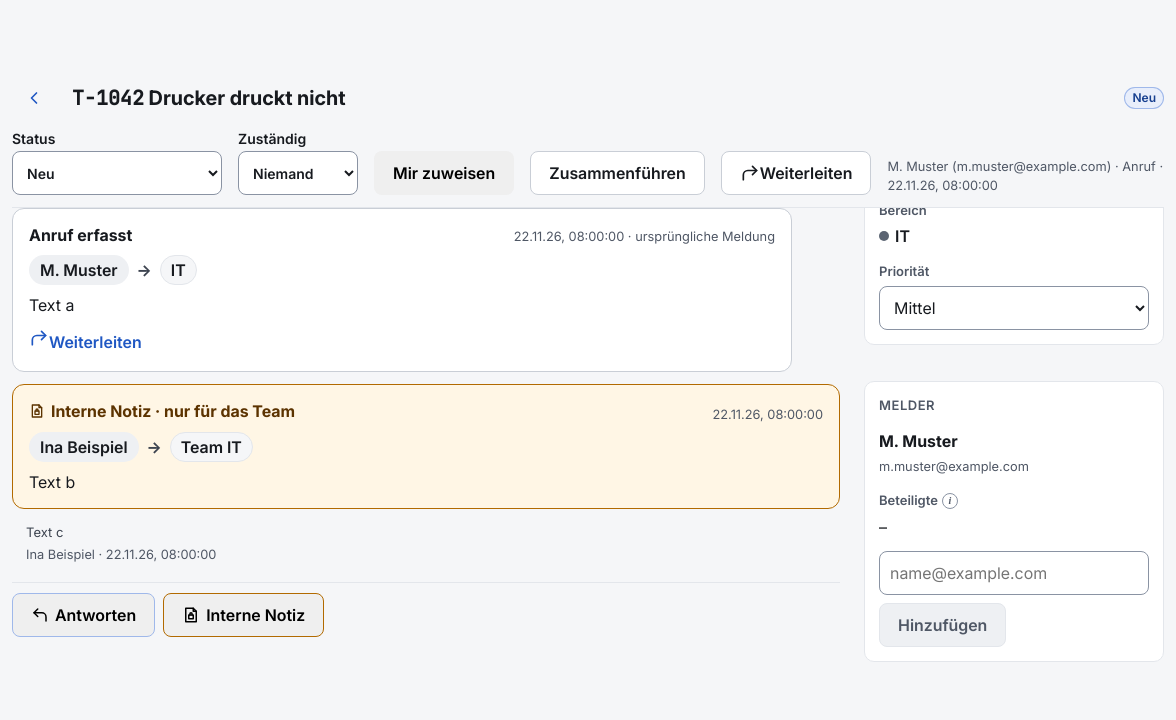
it: TicketPage › speichert Status und Zuständigkeit erst nach „Bestätigen“
The width and height of the screenshot is (1176, 720).
Expected: the text "Drucker druckt nicht" is shown, [149,86,346,110]
Step 1. Select "In Arbeit" in the dropdown labelled "Status" → (117, 173), box [12,151,222,195]
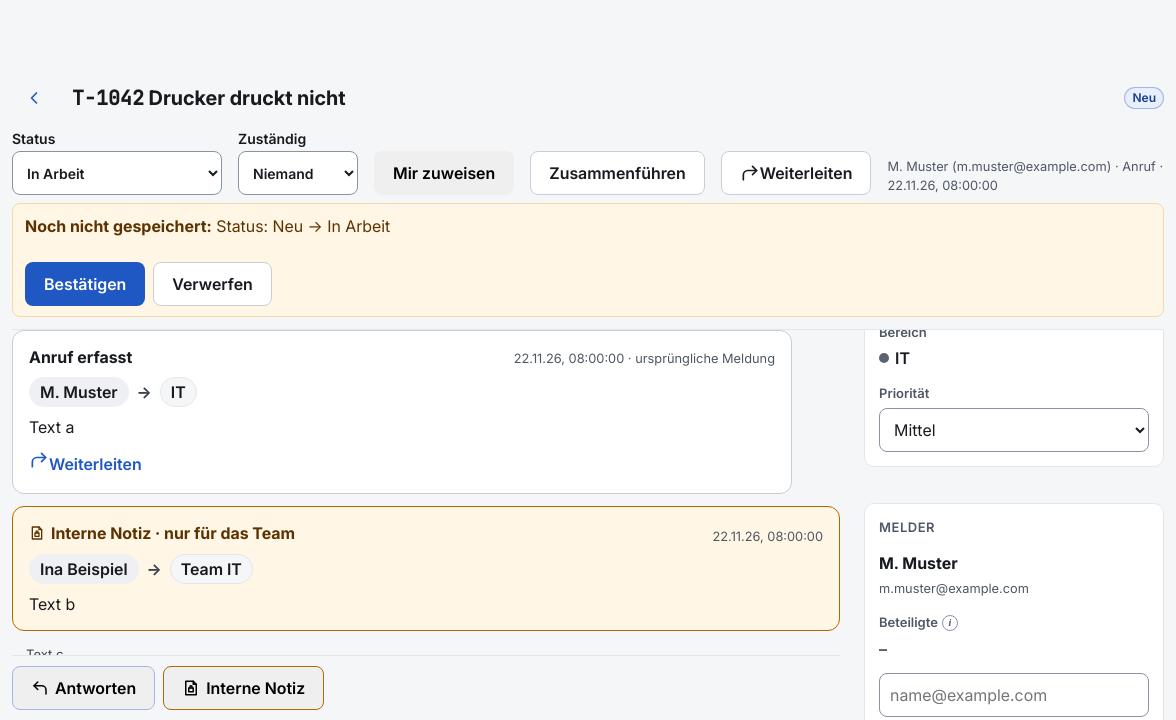
Step 2. Click the button "Mir zuweisen" → (444, 173), box [374,151,514,195]
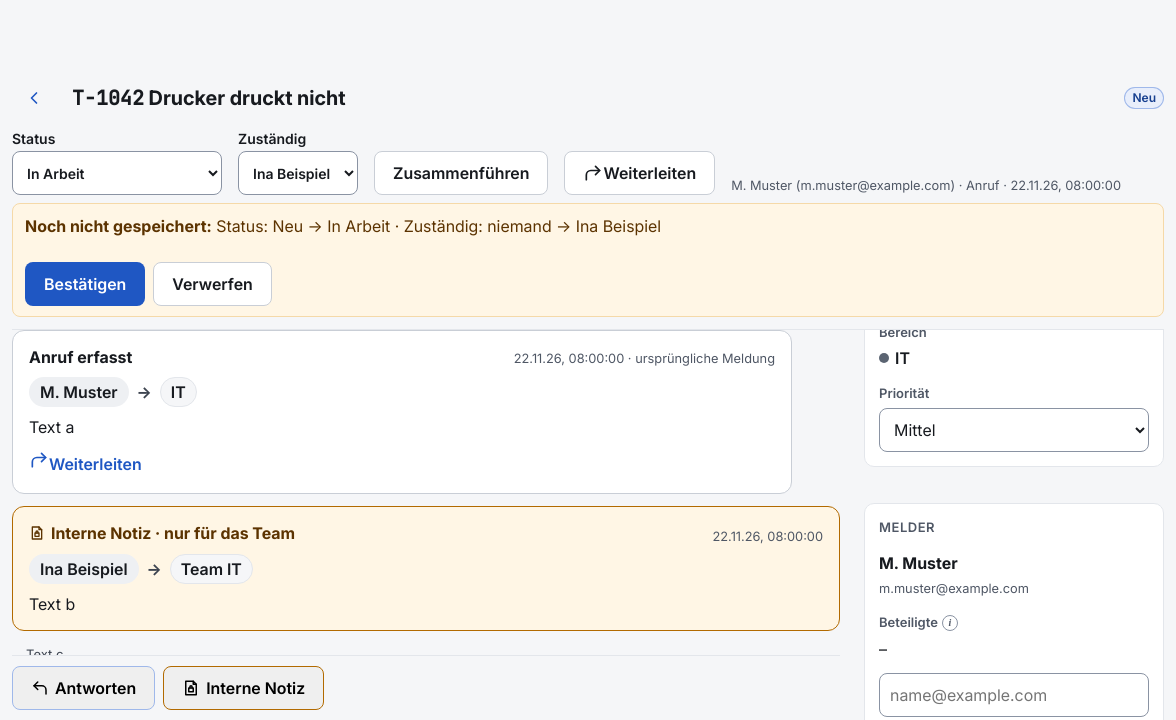
Now the text "Status: Neu → In Arbeit · Zuständig: niemand → Ina Beispiel" is shown, box [216,216,661,236]
Note: Verwerfen nimmt alles zurück
Step 3. Click the button "Verwerfen" → (212, 284), box [153,262,272,306]
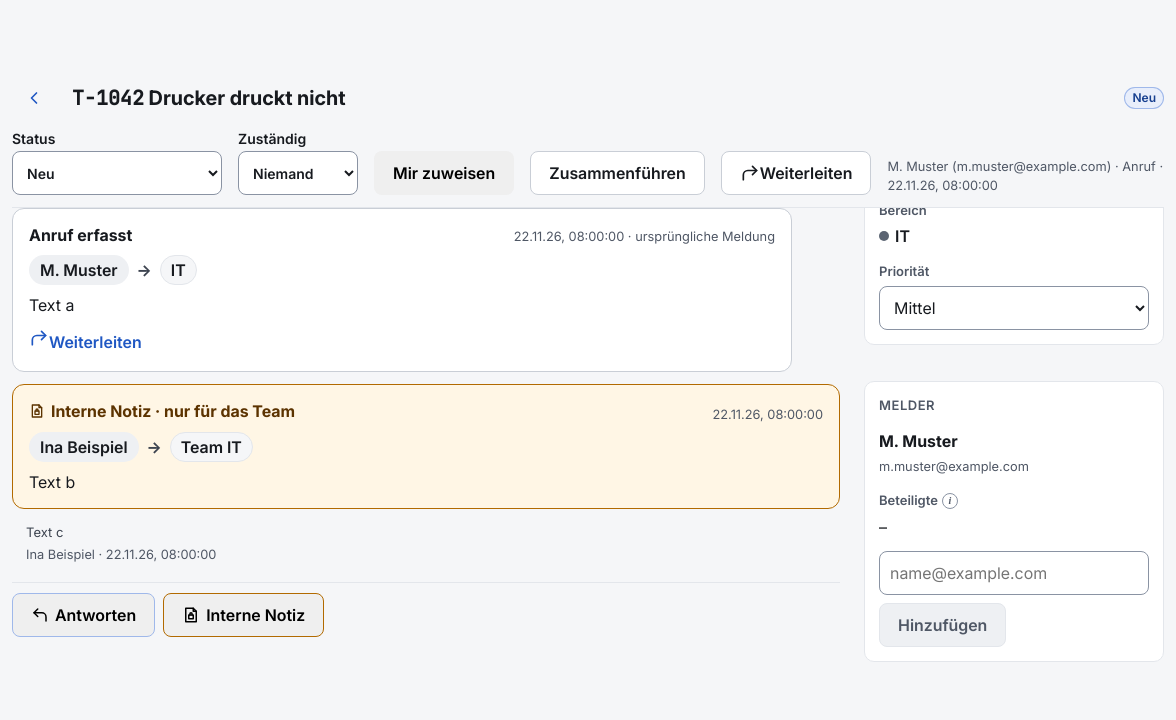
Note: Erneut ändern und bestätigen
Step 4. Select "In Arbeit" in the dropdown labelled "Status" → (117, 173), box [12,151,222,195]
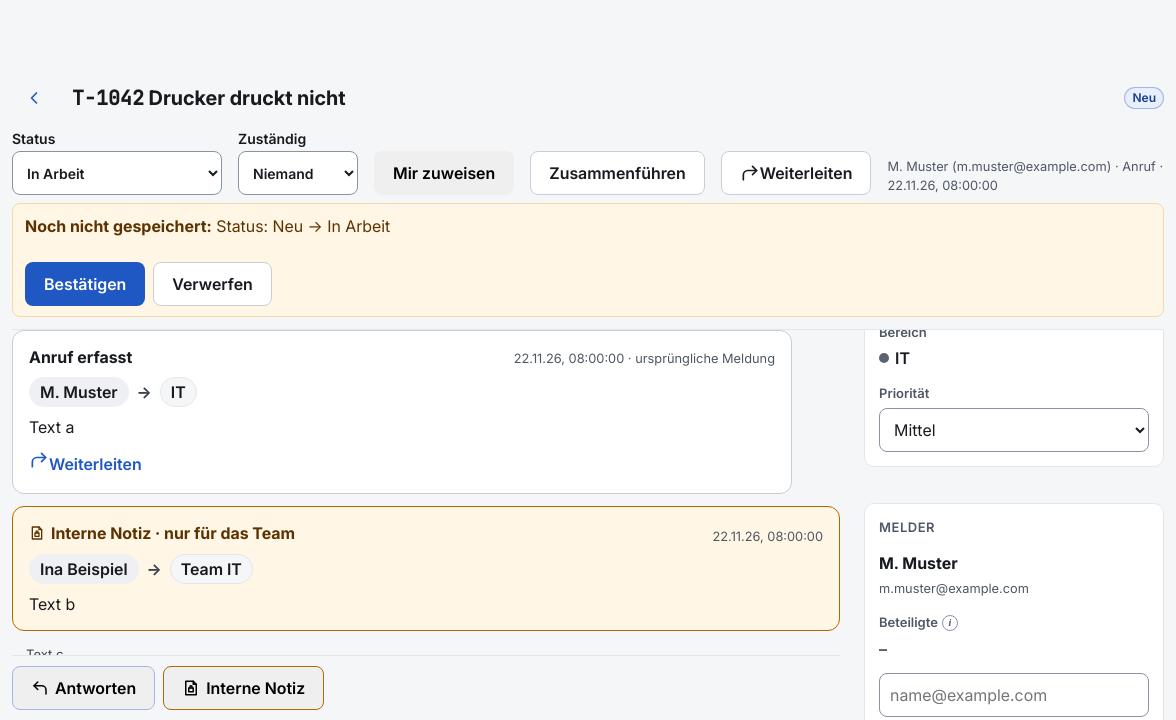
Step 5. Click the button "Mir zuweisen" → (444, 173), box [374,151,514,195]
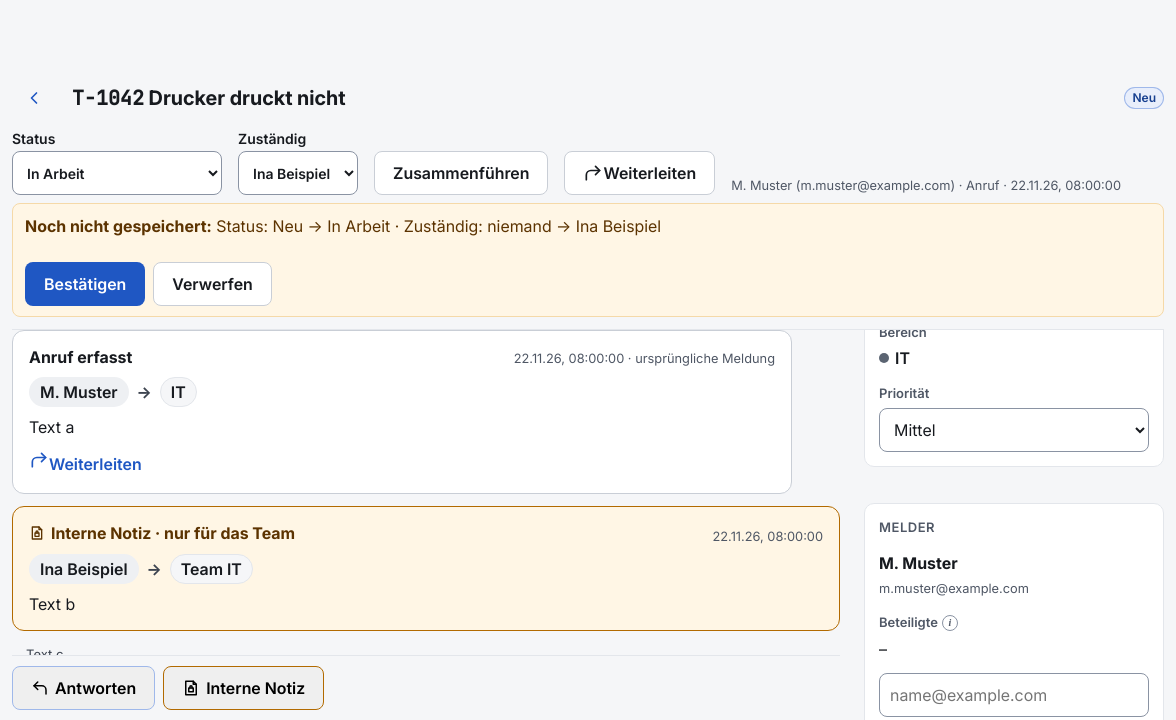
Step 6. Click the button "Bestätigen" → (85, 284), box [25,262,145,306]
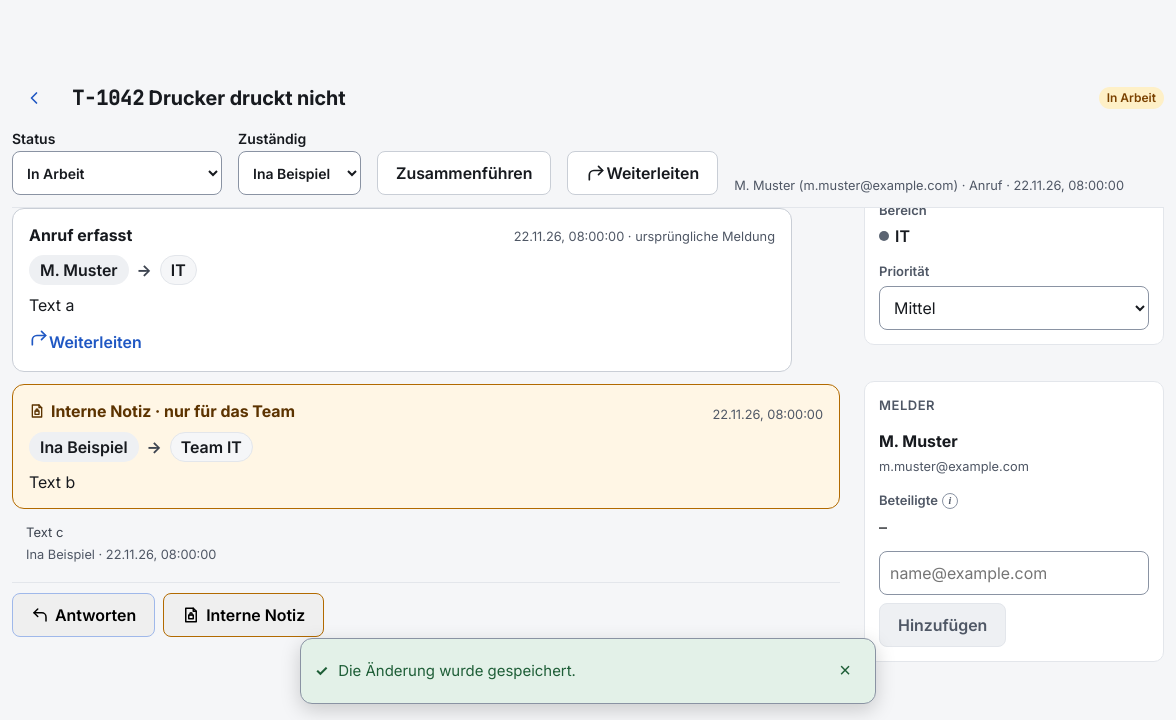
Now the text "Die Änderung wurde gespeichert." is shown, box [338,660,576,680]
